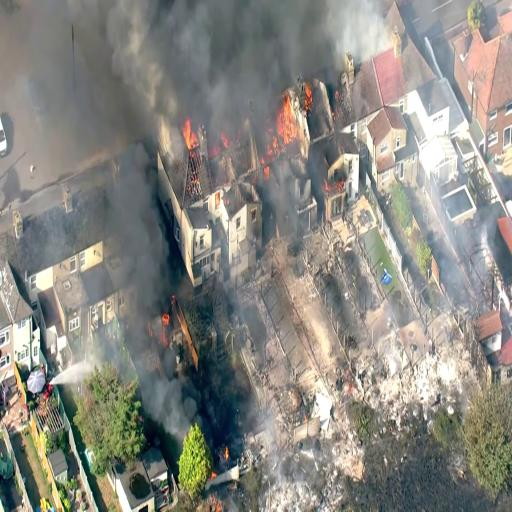fire: (279, 101, 314, 152)
